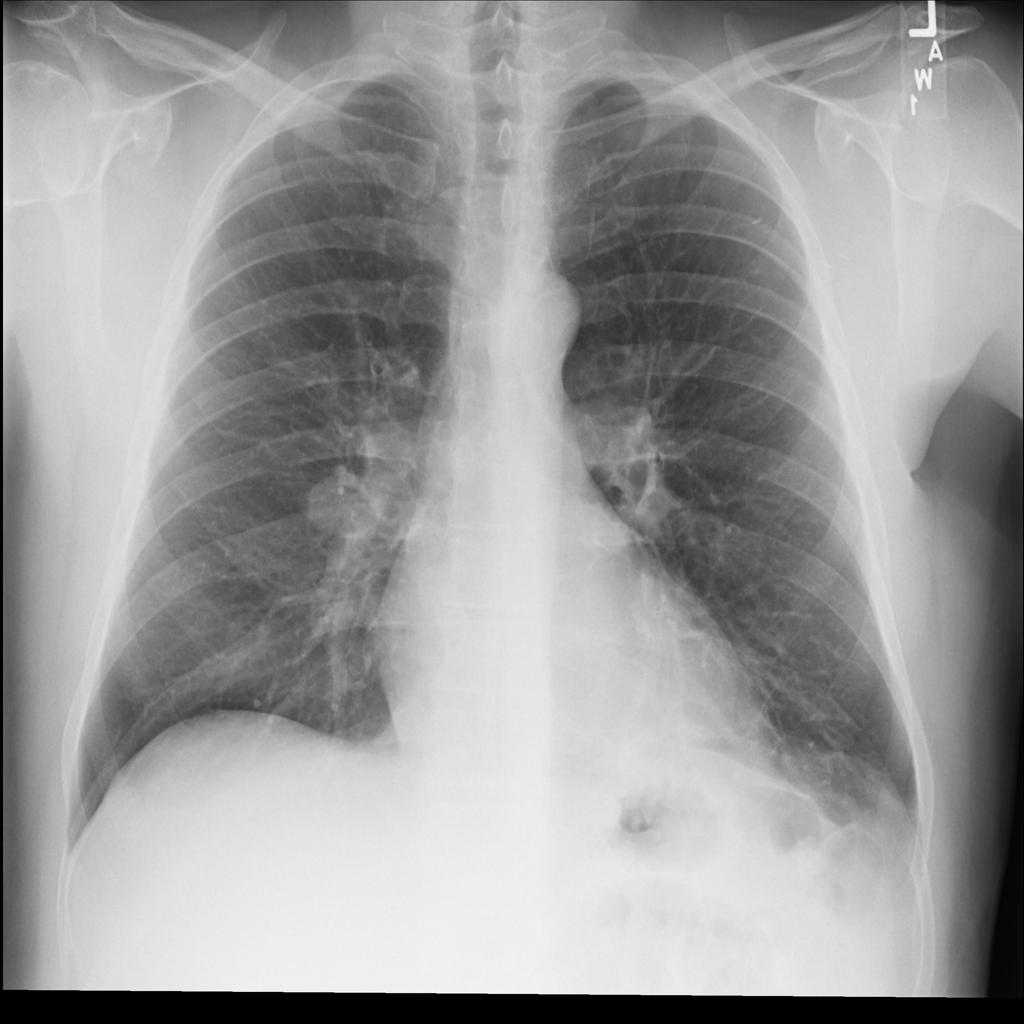nodule: (294, 450, 399, 553)
